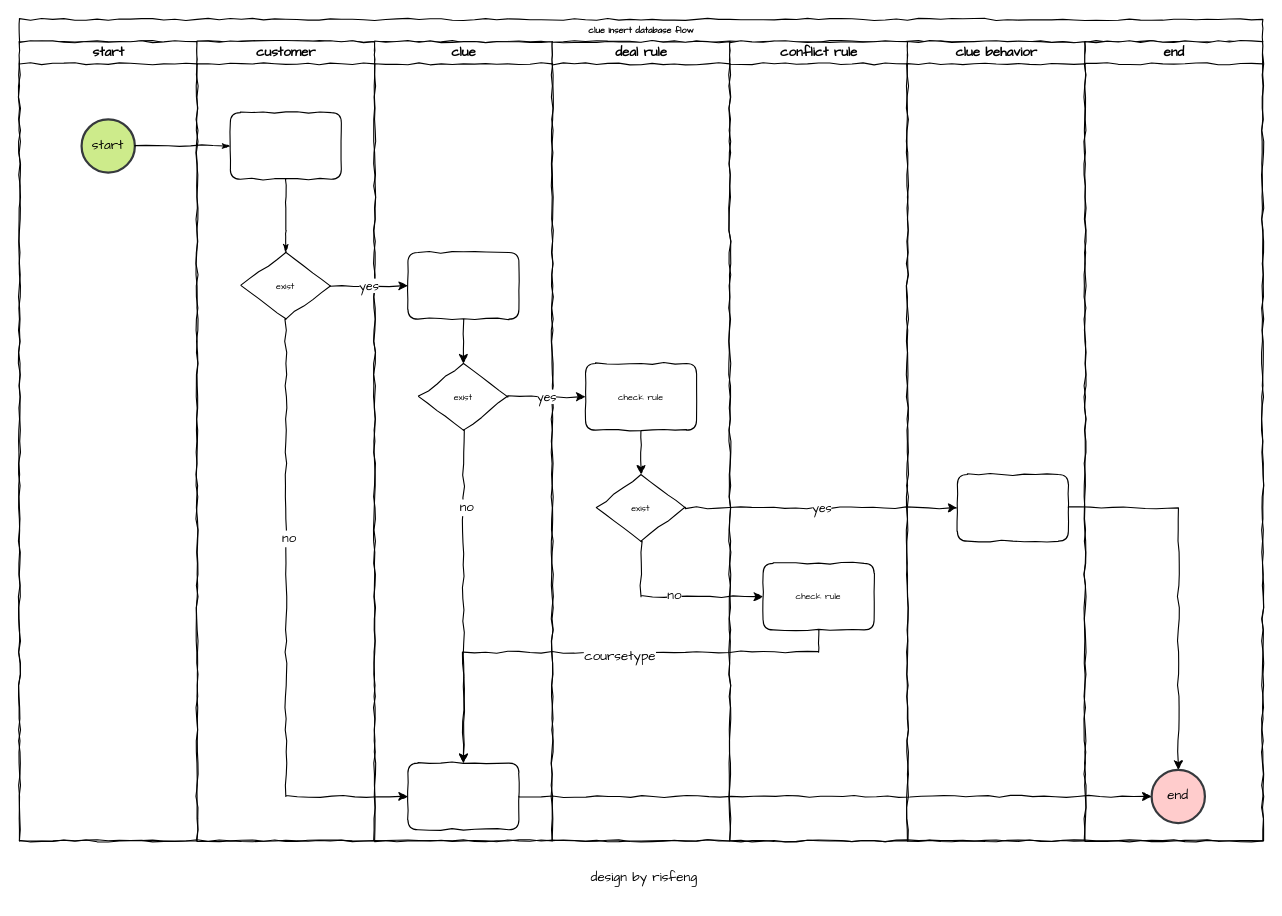
This 1282x916 diagram has some shape labels left out. The centre of each missing label's shape, as x and y in pixels:
add behavior: the point at 1012,507
add clue: the point at 463,796
check clue: the point at 463,285
check customer: the point at 285,145
